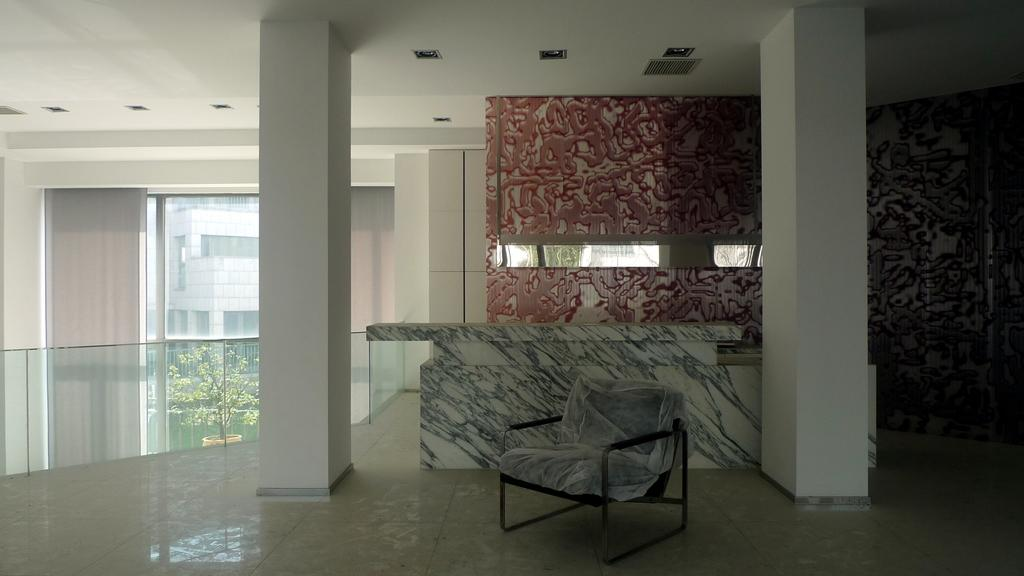Chair: (476, 357, 701, 554)
